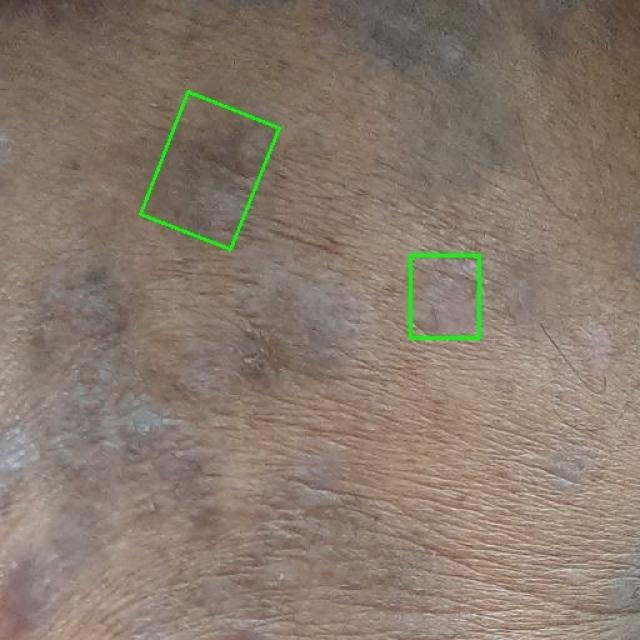Contact Dermatitis: (140, 92, 279, 250), (410, 255, 479, 338)
